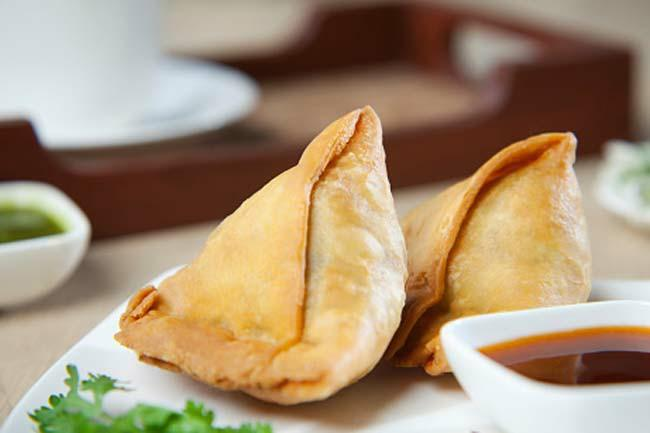Samosa: (112, 106, 407, 408), (390, 134, 594, 378)
